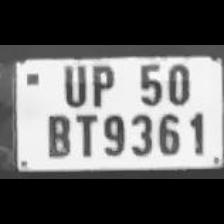0: (162, 62, 192, 104)
1: (184, 107, 208, 155)
3: (127, 108, 153, 158)
5: (135, 62, 163, 104)
6: (155, 109, 183, 157)
9: (100, 110, 126, 156)
B: (42, 110, 72, 158)
P: (86, 61, 118, 107)
T: (71, 110, 99, 158)
U: (57, 60, 88, 106)
